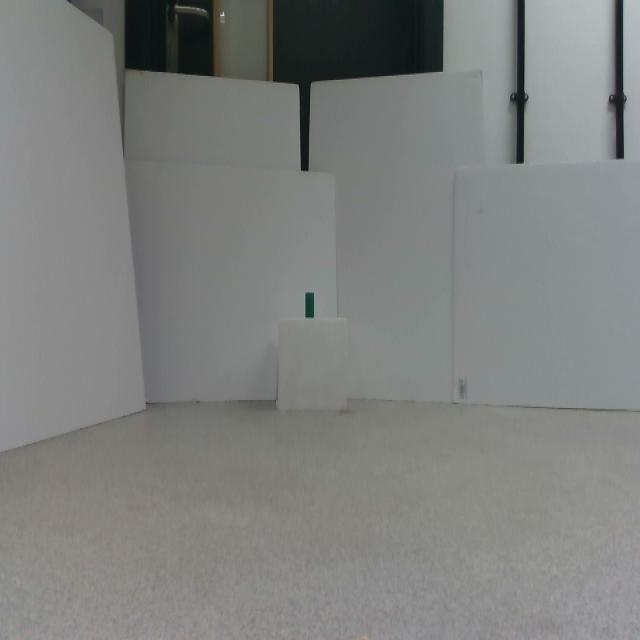green_cylinder: (305, 292, 314, 318)
